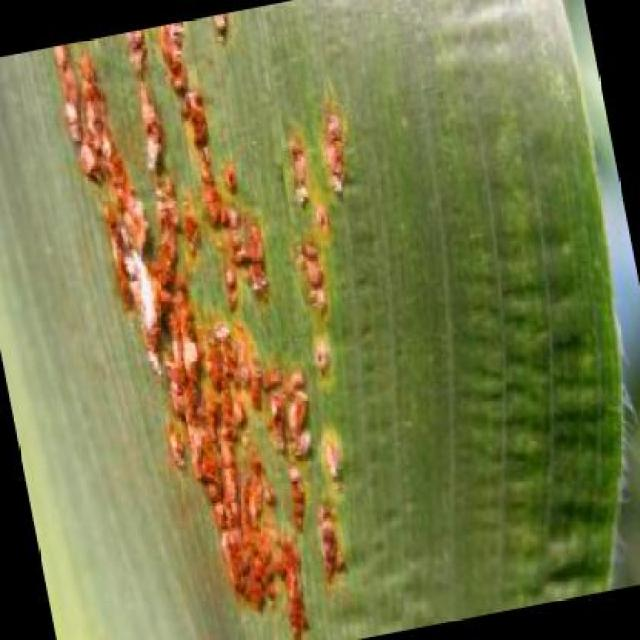Corn_Rust: (51, 51, 583, 591)
